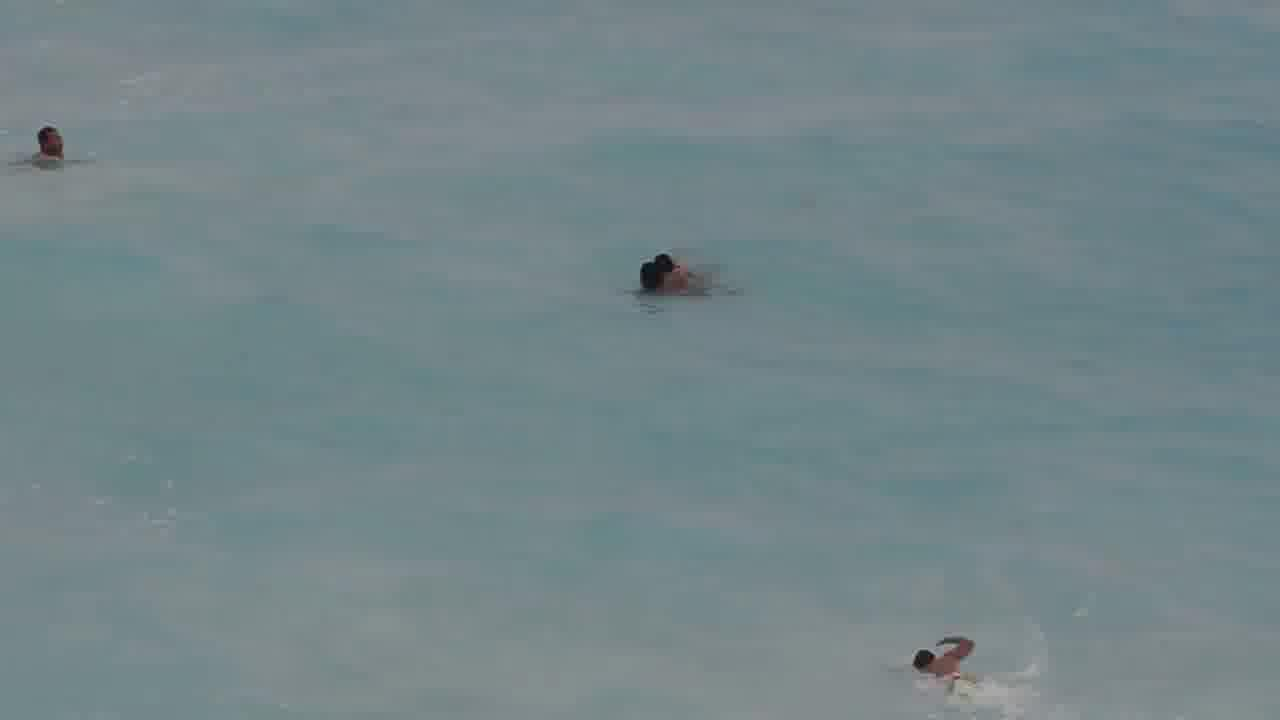human: (613, 237, 719, 315), (894, 623, 990, 693), (19, 116, 90, 194), (649, 230, 715, 279)
